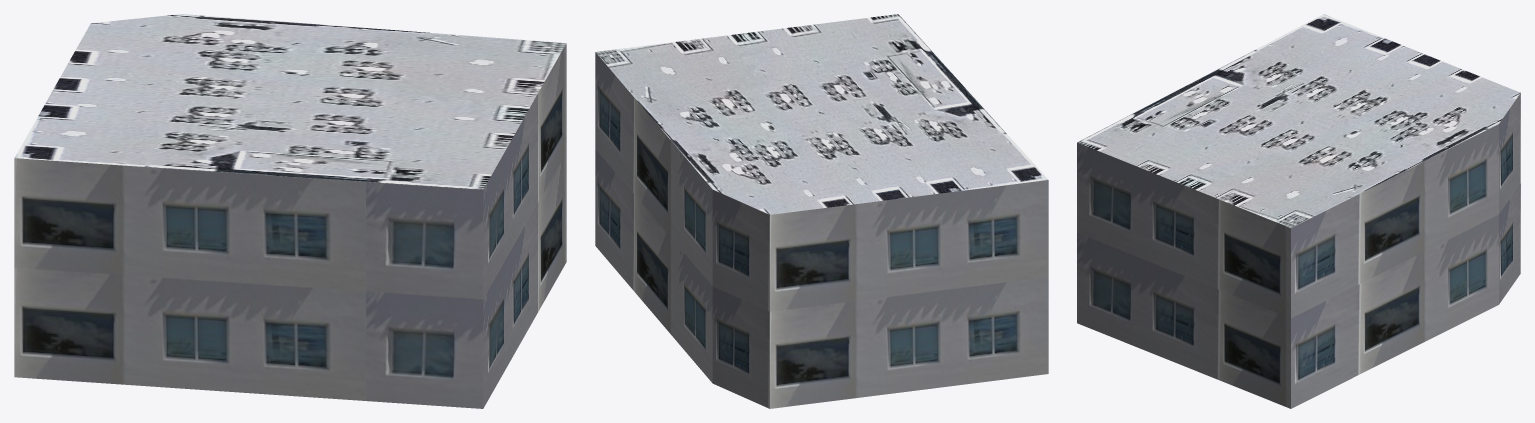
The model's file is ResTex__1651.fbx.
The picture shows the model from 3 angles, left to right: view 1: azimuth 30°, elevation 25°; view 2: azimuth 150°, elevation 25°; view 3: azimuth 270°, elevation 25°; orthographic projection. The views are drawn at different scales.
Visible parts, largest first — view 1: CityEngineMaterial_10_m, CityEngineMaterial_4_m; view 2: CityEngineMaterial_10_m, CityEngineMaterial_4_m; view 3: CityEngineMaterial_10_m, CityEngineMaterial_4_m.
Boxes of the visible parts, x1=… form: CityEngineMaterial_10_m: x1=14, y1=43, x2=566, y2=408; CityEngineMaterial_4_m: x1=14, y1=14, x2=566, y2=189; CityEngineMaterial_10_m: x1=595, y1=52, x2=1048, y2=408; CityEngineMaterial_4_m: x1=596, y1=14, x2=1047, y2=214; CityEngineMaterial_10_m: x1=1077, y1=93, x2=1520, y2=408; CityEngineMaterial_4_m: x1=1077, y1=14, x2=1520, y2=227.
Bounding box in the file's own units: 15.24 × 6 × 13.34.
Materials: 2 (2 with a texture image).
